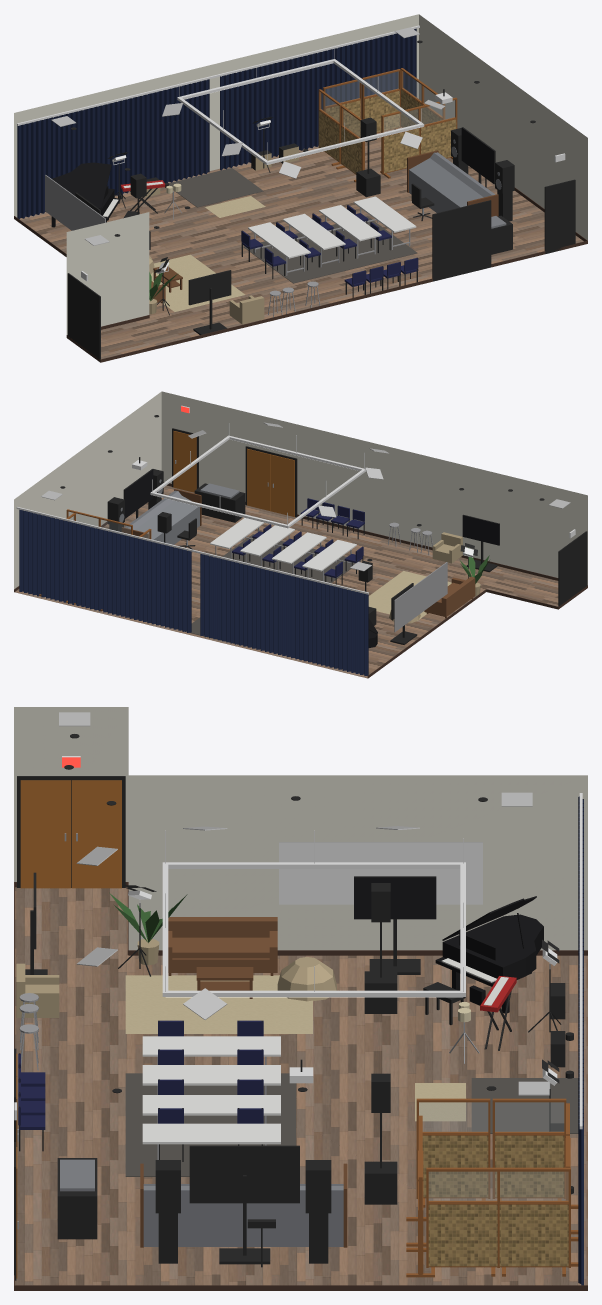
Rendered from lab138-room.glb.
3 renders of one model, top to bottom at view 1: azimuth 30°, elevation 25°; view 2: azimuth 150°, elevation 25°; view 3: azimuth 270°, elevation 25°, orthographic. The views are drawn at different scales.
Visible parts, largest first — view 1: Floor, Walls, Curtain - Stage Right, Curtain - Stage Left, Door - Double, Rug - Tables, Mixing Console, Linear Fixtures, Base Trim, Door - Corridor Exit, Door - Single, Drum Mat (+26 smaller); view 2: Walls, Curtain - Stage Left, Curtain - Stage Right, Floor, Door - Double, Mixing Console, Linear Fixtures, Whiteboard, Door - Corridor Exit, Base Trim, Rug - Tables, Door - Single (+15 smaller); view 3: Floor, Walls, Door - Corridor Exit, Whiteboard, Mixing Console, Console Screen, Diffuser Panel 7, Rug - Lounge, Diffuser Panel 8, Diffuser Panel 2, Diffuser Panel 1, Grand Piano (+25 smaller).
Part boxes in pixels (box(x1,y1,x2,y2)): Floor: box(19, 127, 583, 359); Walls: box(14, 14, 587, 334); Curtain - Stage Right: box(17, 79, 209, 219); Curtain - Stage Left: box(220, 28, 416, 170); Door - Double: box(432, 200, 491, 281); Rug - Tables: box(243, 216, 417, 283); Mixing Console: box(407, 150, 498, 216); Linear Fixtures: box(177, 45, 424, 164); Base Trim: box(14, 187, 587, 362); Door - Corridor Exit: box(67, 273, 100, 361); Door - Single: box(544, 179, 575, 253); Drum Mat: box(169, 168, 263, 207); Walls: box(14, 391, 587, 589); Curtain - Stage Left: box(19, 510, 191, 632); Curtain - Stage Right: box(200, 554, 368, 675); Floor: box(15, 485, 558, 678); Door - Double: box(245, 446, 297, 517); Mixing Console: box(121, 489, 201, 546); Linear Fixtures: box(150, 423, 365, 528); Whiteboard: box(394, 562, 447, 632); Door - Corridor Exit: box(558, 531, 587, 606); Base Trim: box(14, 482, 587, 678); Rug - Tables: box(222, 534, 361, 583); Door - Single: box(172, 428, 198, 492); Floor: box(15, 887, 587, 1285); Walls: box(14, 707, 587, 950); Door - Corridor Exit: box(17, 776, 125, 888); Whiteboard: box(279, 842, 482, 904); Mixing Console: box(140, 1163, 347, 1247); Console Screen: box(189, 1145, 299, 1264); Diffuser Panel 7: box(426, 1167, 499, 1276); Rug - Lounge: box(125, 975, 312, 1033); Diffuser Panel 8: box(497, 1167, 570, 1276); Diffuser Panel 2: box(492, 1098, 566, 1200); Diffuser Panel 1: box(416, 1098, 490, 1207); Grand Piano: box(435, 896, 543, 1013).
Size of the model in its own units: 16.85 by 5.46 by 10.12.
Materials: 32 (4 with a texture image).
